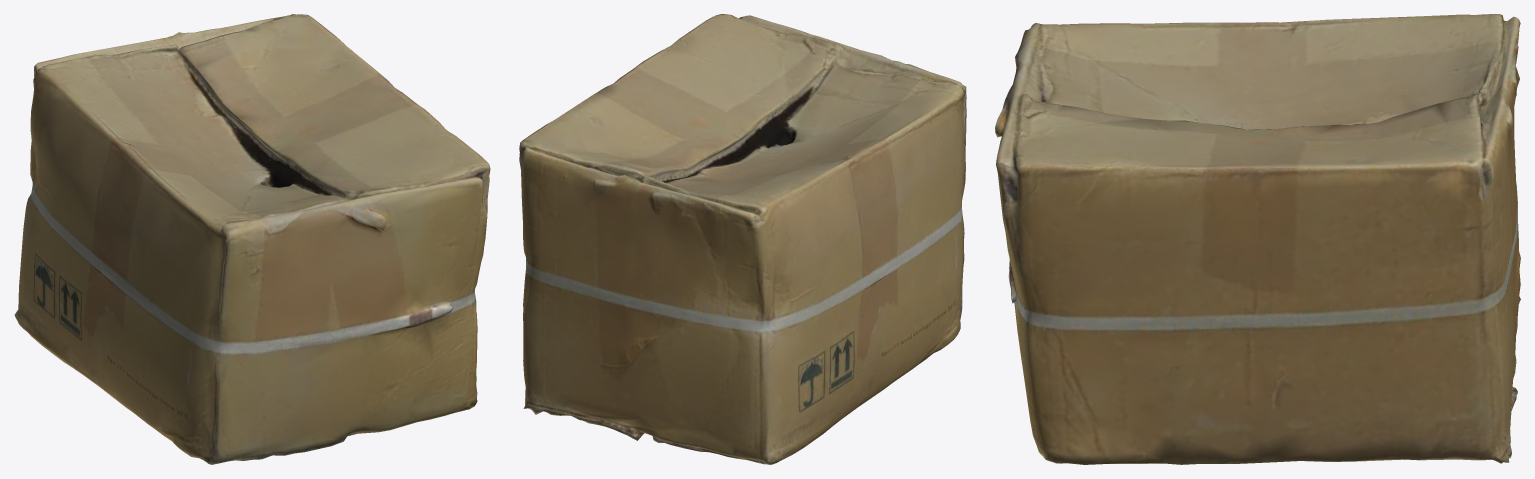
File: cardboard_box_01.glb
3 views of the same model, side by side, from view 1: azimuth 30°, elevation 25°; view 2: azimuth 150°, elevation 25°; view 3: azimuth 270°, elevation 25° (orthographic). The views are drawn at different scales.
Parts seen in each view (by area): view 1: cardboard_box_01; view 2: cardboard_box_01; view 3: cardboard_box_01.
Part boxes in pixels (box(x1,y1,x2,y2)): cardboard_box_01: box(14, 14, 490, 464); cardboard_box_01: box(519, 14, 966, 464); cardboard_box_01: box(995, 14, 1520, 464).
Bounding box in the file's own units: 0.3868 × 0.3418 × 0.5159.
1 material, 1 textured.
